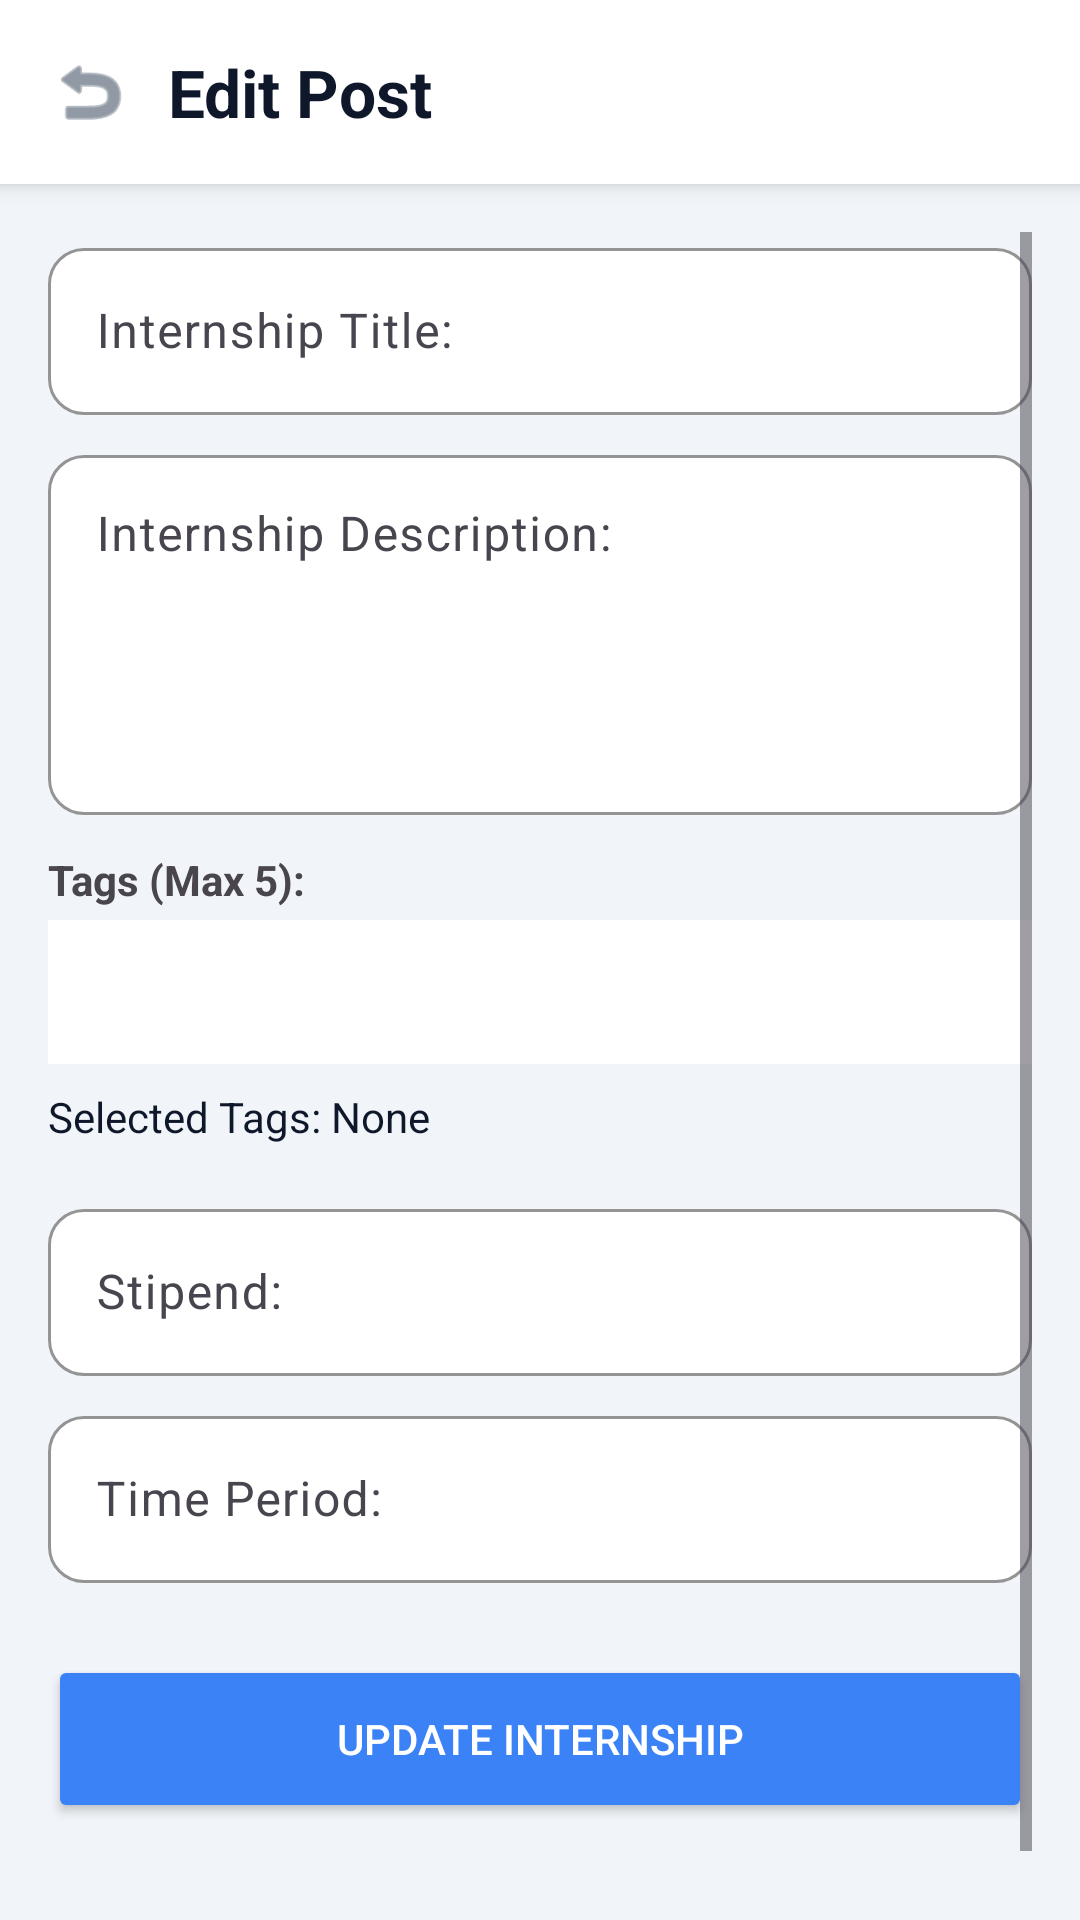

Point at icon controls on the screen. Image size 1080*1920, points as [x,y].
revert: [91,92]
